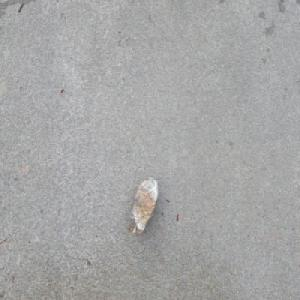Rock: (130, 175, 160, 234)
